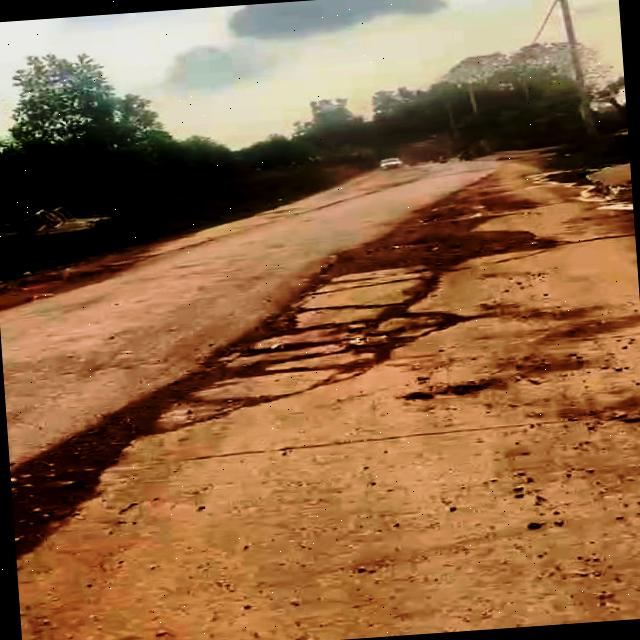pothole: (212, 291, 462, 394)
